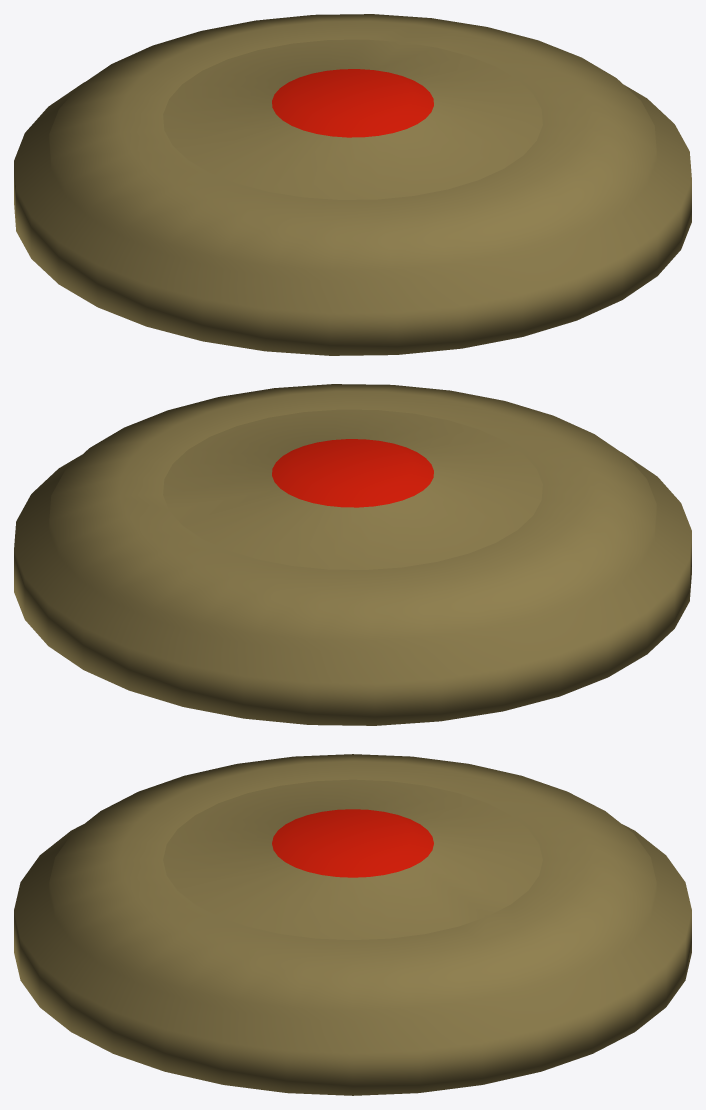
File: rich landmine.fbx
3 renders of one model, top to bottom at view 1: azimuth 30°, elevation 25°; view 2: azimuth 150°, elevation 25°; view 3: azimuth 270°, elevation 25°, orthographic.
Parts seen in each view (by area): view 1: Cylinder; view 2: Cylinder; view 3: Cylinder.
Part boxes in pixels (x1,y1,x2,y2): Cylinder: (14,14,691,355); Cylinder: (14,384,691,725); Cylinder: (14,754,691,1095).
Bounding box in the file's own units: 1.48 × 0.2834 × 1.48.
